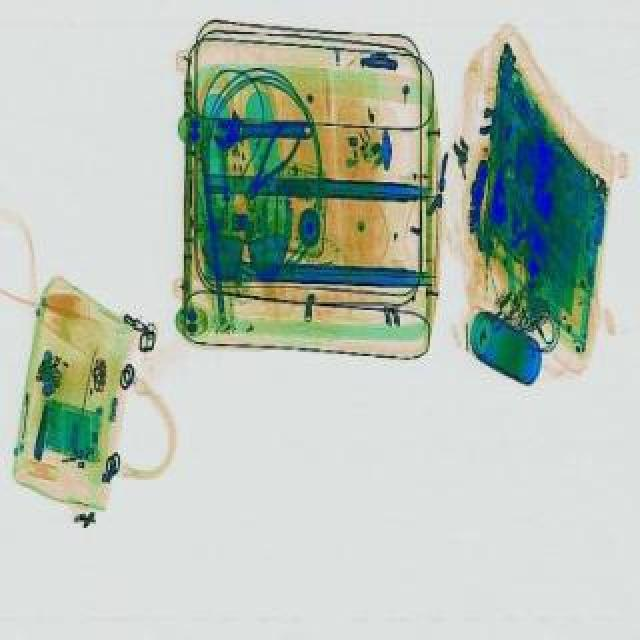scissors: (214, 114, 318, 148)
wrench: (232, 118, 308, 206)
